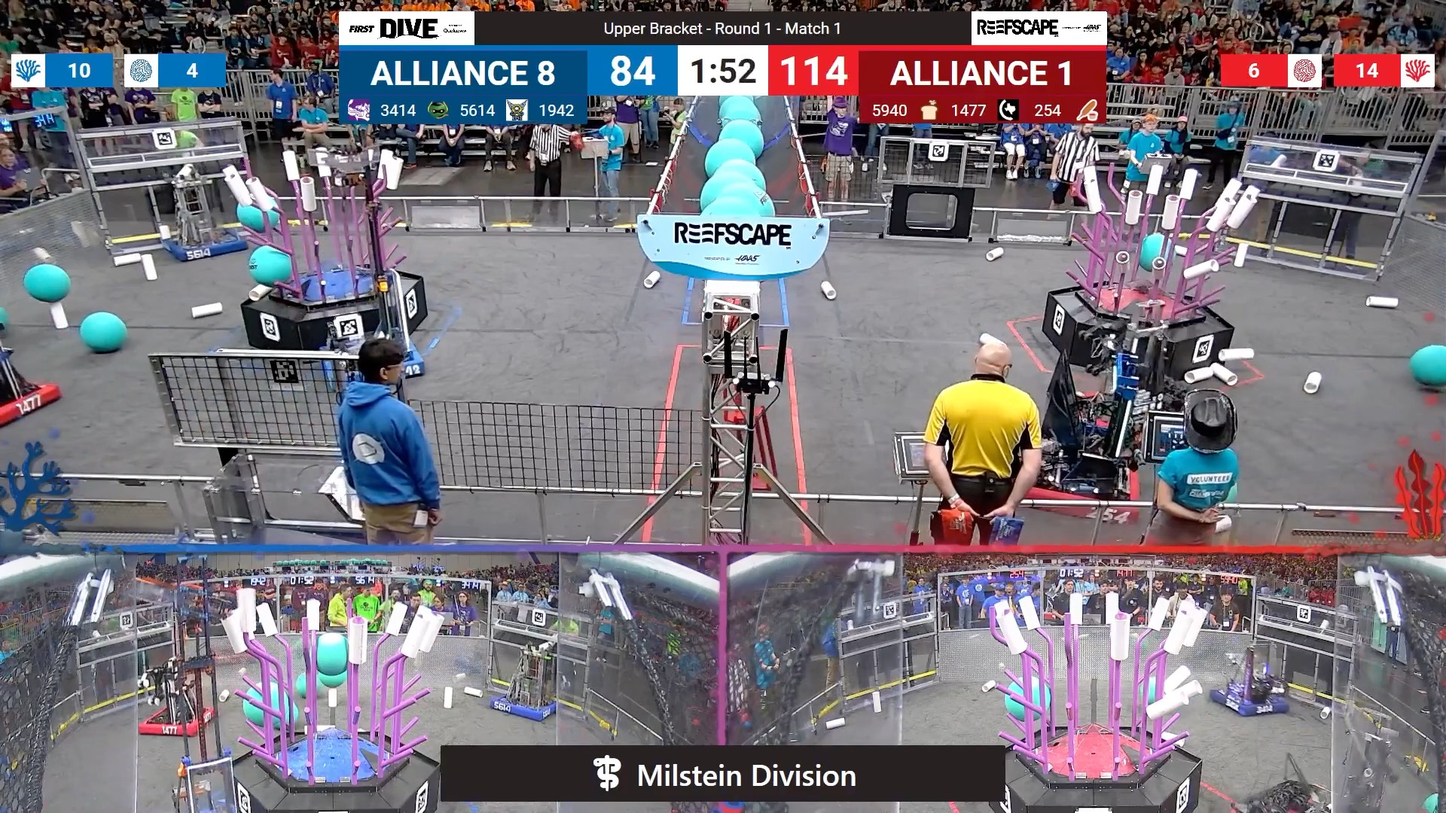bumpers: (1018, 441, 1161, 524), (314, 340, 439, 387), (0, 375, 69, 433), (134, 702, 218, 743), (1200, 686, 1292, 723), (155, 237, 261, 269), (485, 688, 567, 725)
